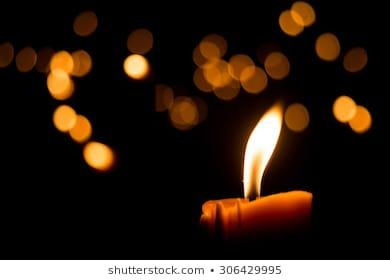fire: (241, 99, 282, 195)
